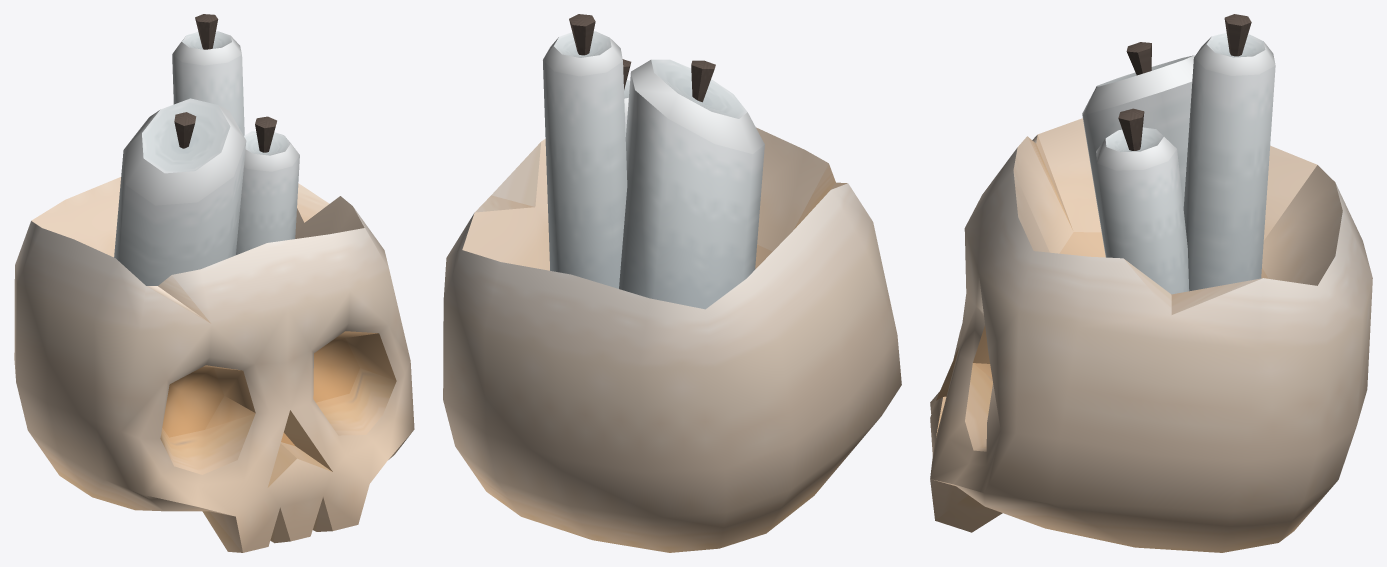
File: skull-candle.glb
The picture shows the model from 3 angles, left to right: view 1: azimuth 30°, elevation 25°; view 2: azimuth 150°, elevation 25°; view 3: azimuth 270°, elevation 25°; orthographic projection. The views are drawn at different scales.
Parts seen in each view (by area): view 1: skull_candle; view 2: skull_candle; view 3: skull_candle.
Boxes of the visible parts, left/top/right/bottom form: skull_candle: left=14, top=14, right=414, bottom=552; skull_candle: left=443, top=14, right=901, bottom=552; skull_candle: left=930, top=14, right=1372, bottom=552.
Bounding box in the file's own units: 0.9176 × 1.19 × 0.9361.
Materials: 1 (1 with a texture image).
